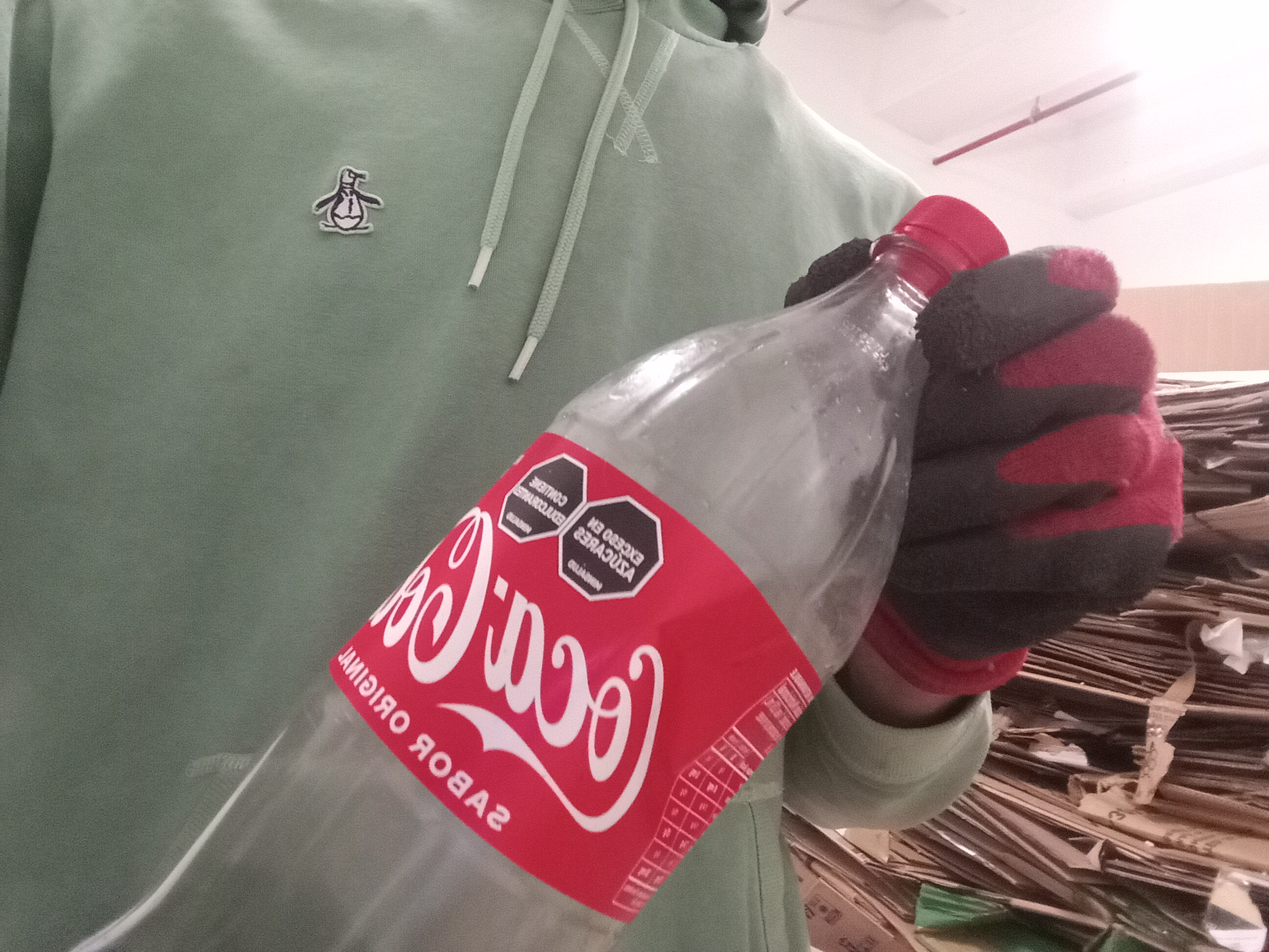Plastico: (78, 194, 1011, 952)
